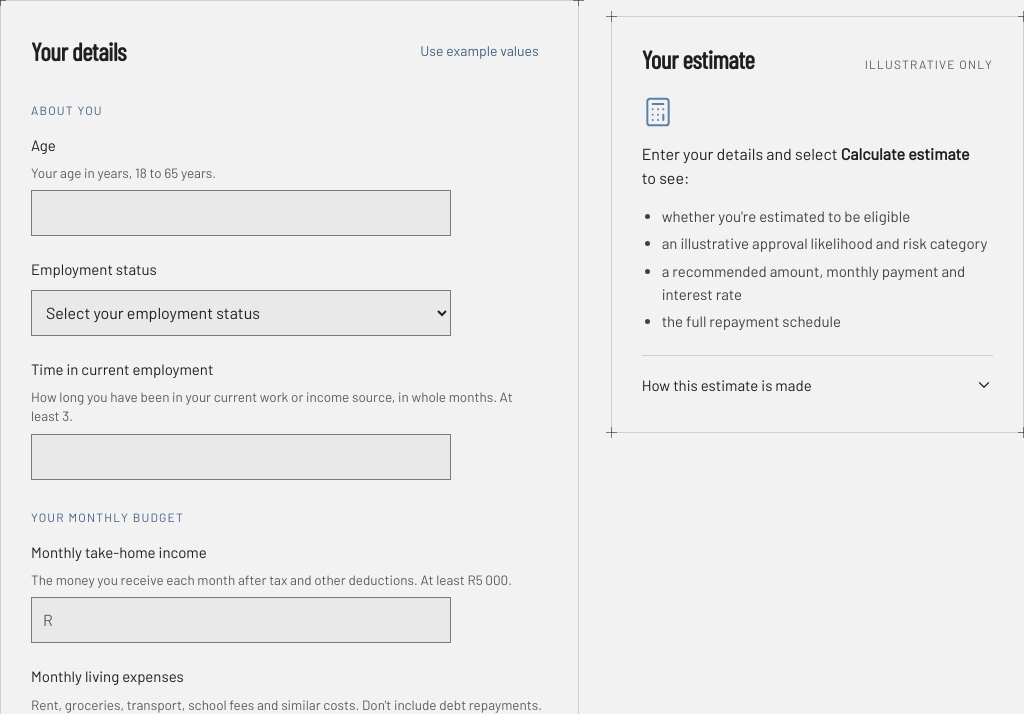
Test case: a calculation › marks an estimate out of date when an input changes, and recalculates on request
The width and height of the screenshot is (1024, 714).
Click the button "Use example values" at (480, 51), box [411, 29, 548, 73]
(page scrolled)
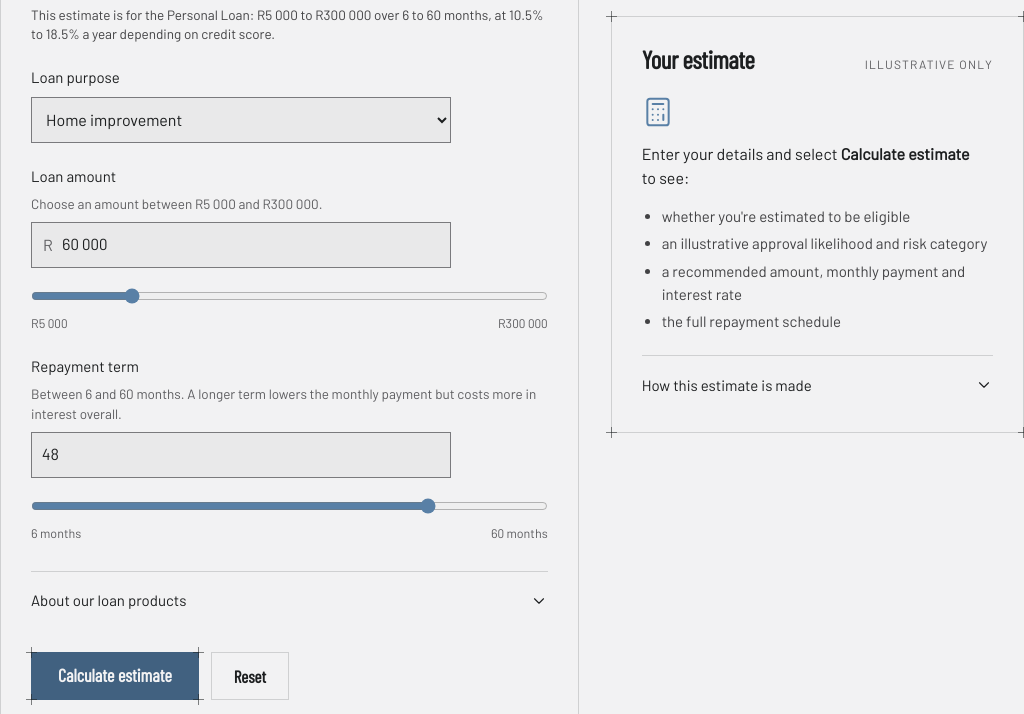
Click the button "Calculate estimate" at (115, 676), box [31, 652, 199, 700]
(page scrolled)
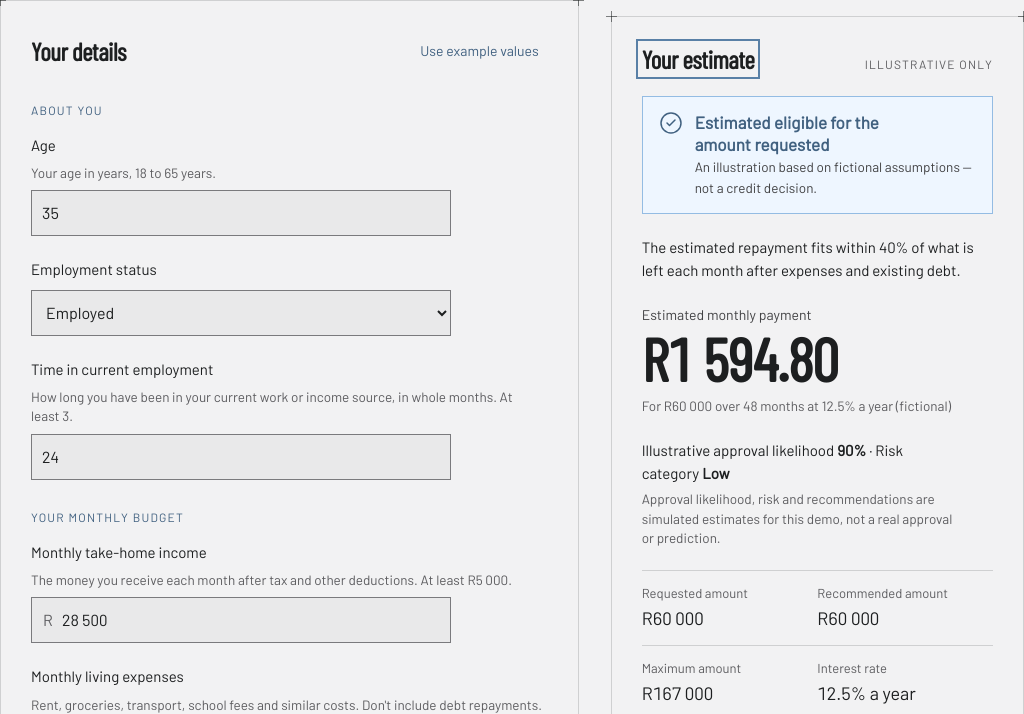
Now the text "Estimated monthly payment" is shown, box [642, 306, 812, 323]
Replace the text in the field named "Age in years" with "40" at (241, 213), box [31, 190, 451, 236]
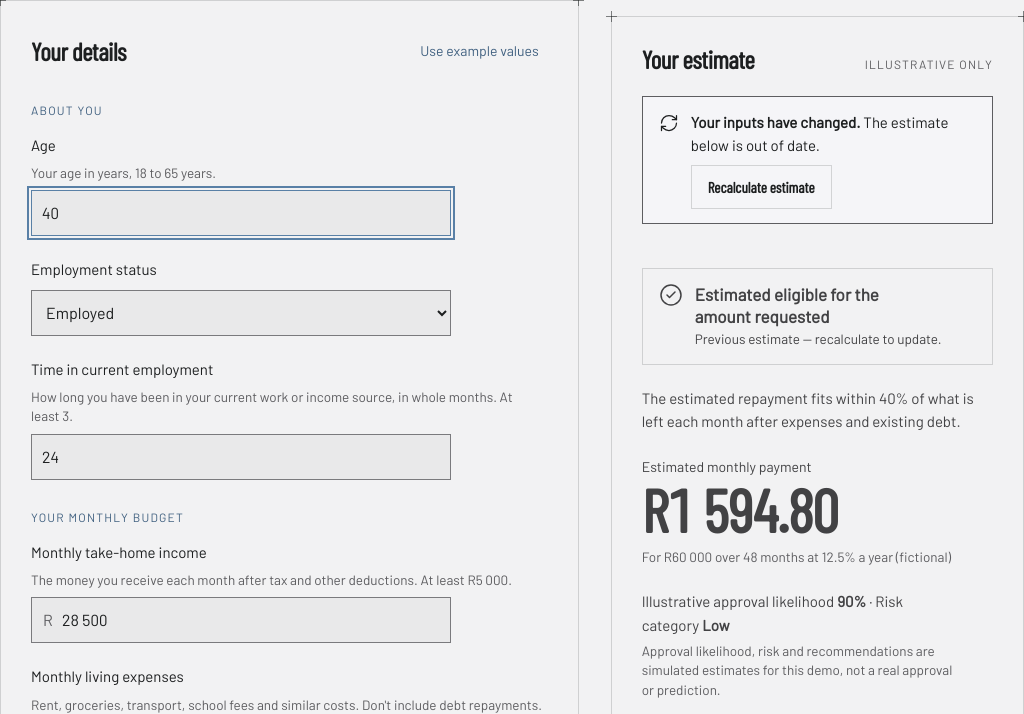
Now the text "Your inputs have changed." is shown, box [691, 113, 860, 131]
Click the button "Recalculate estimate" at (761, 187), box [691, 165, 832, 209]
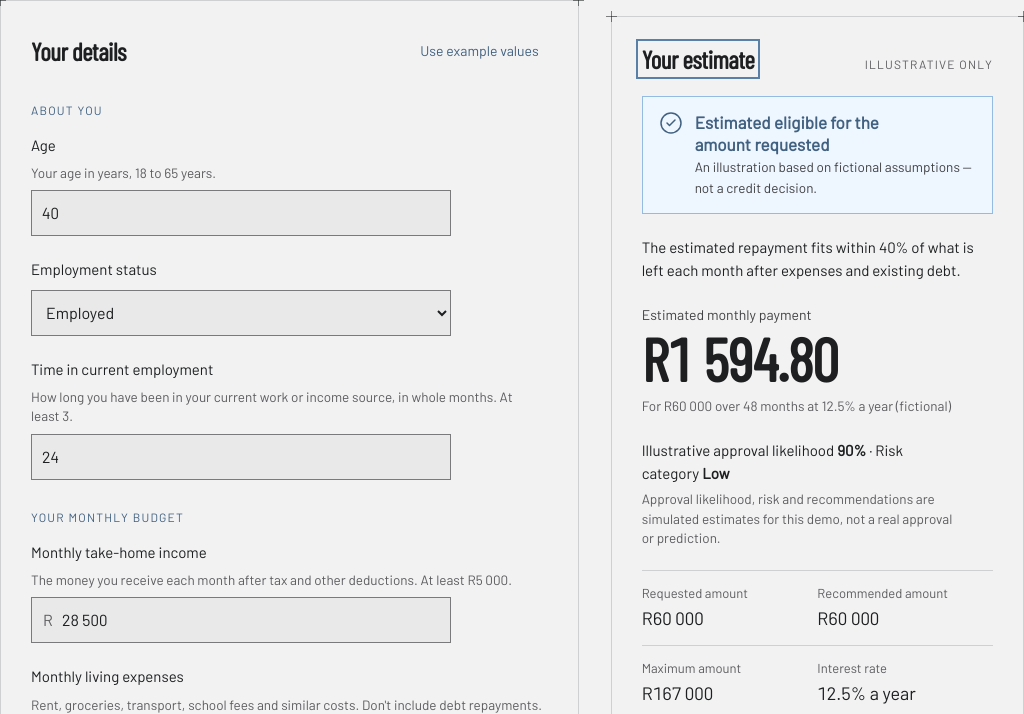
Now the text "Your inputs have changed." is gone
